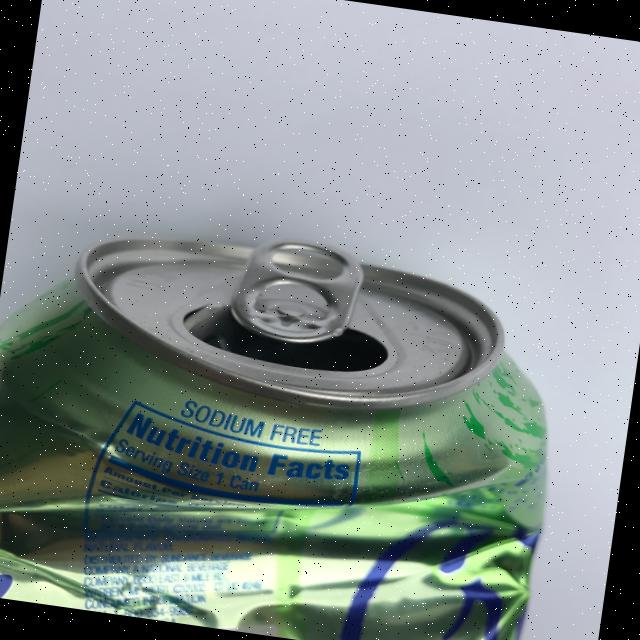metal: (0, 197, 598, 640)
